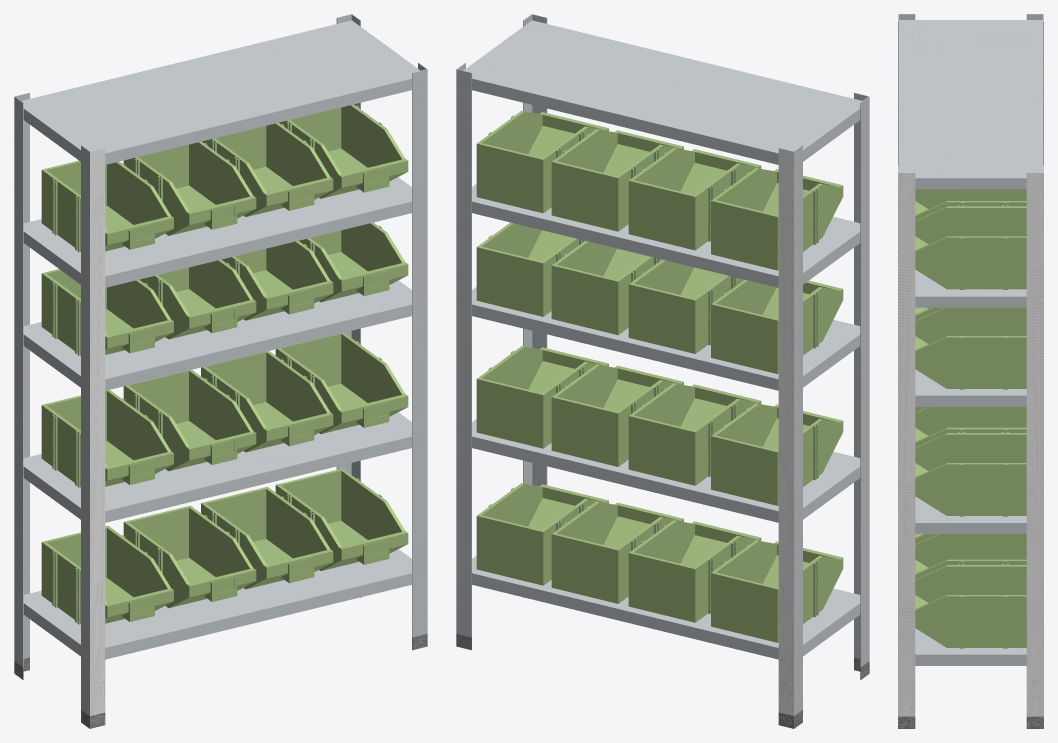
The model's file is newshelf.dae.
The picture shows the model from 3 angles, left to right: view 1: azimuth 30°, elevation 25°; view 2: azimuth 150°, elevation 25°; view 3: azimuth 270°, elevation 25°; orthographic projection. The views are drawn at different scales.
Visible parts, largest first — view 1: instance_18; view 2: instance_18; view 3: instance_18.
Part boxes in pixels (<box>): instance_18: <box>14,14,427,728</box>; instance_18: <box>456,14,869,728</box>; instance_18: <box>898,14,1043,728</box>.
Bounding box in the file's own units: 1.1 × 0.4285 × 1.8.
